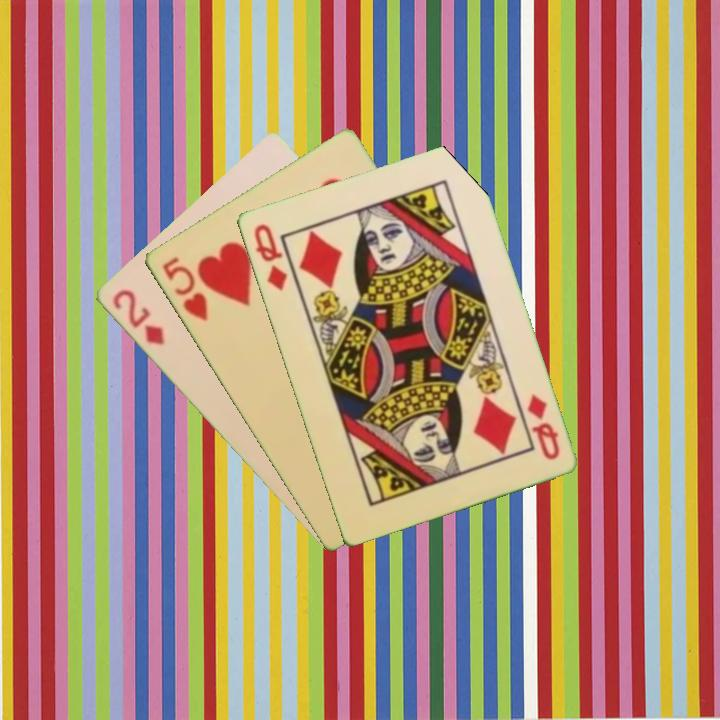2d: (108, 285, 167, 349)
5h: (158, 253, 210, 325)
Qd: (250, 220, 290, 294), (523, 390, 562, 463)
